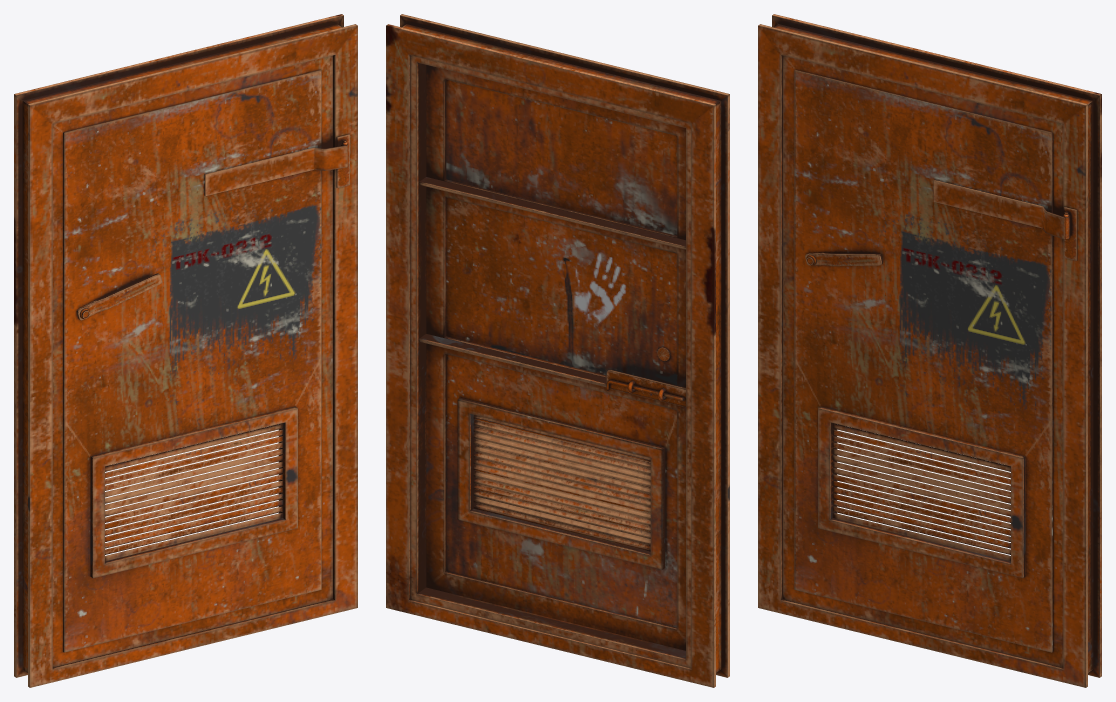
File: Sketchfab_2024_03_25_09_47_24.fbx
The picture shows the model from 3 angles, left to right: view 1: azimuth 30°, elevation 25°; view 2: azimuth 150°, elevation 25°; view 3: azimuth 330°, elevation 25°; orthographic projection.
Parts seen in each view (by area): view 1: J1_a15; view 2: J1_a15; view 3: J1_a15.
Boxes of the visible parts, box(x1,y1,x2,y2) form: J1_a15: box(14, 14, 357, 687); J1_a15: box(386, 14, 729, 687); J1_a15: box(758, 14, 1101, 687).
Size of the model in its own units: 144 by 244 by 17.7.
